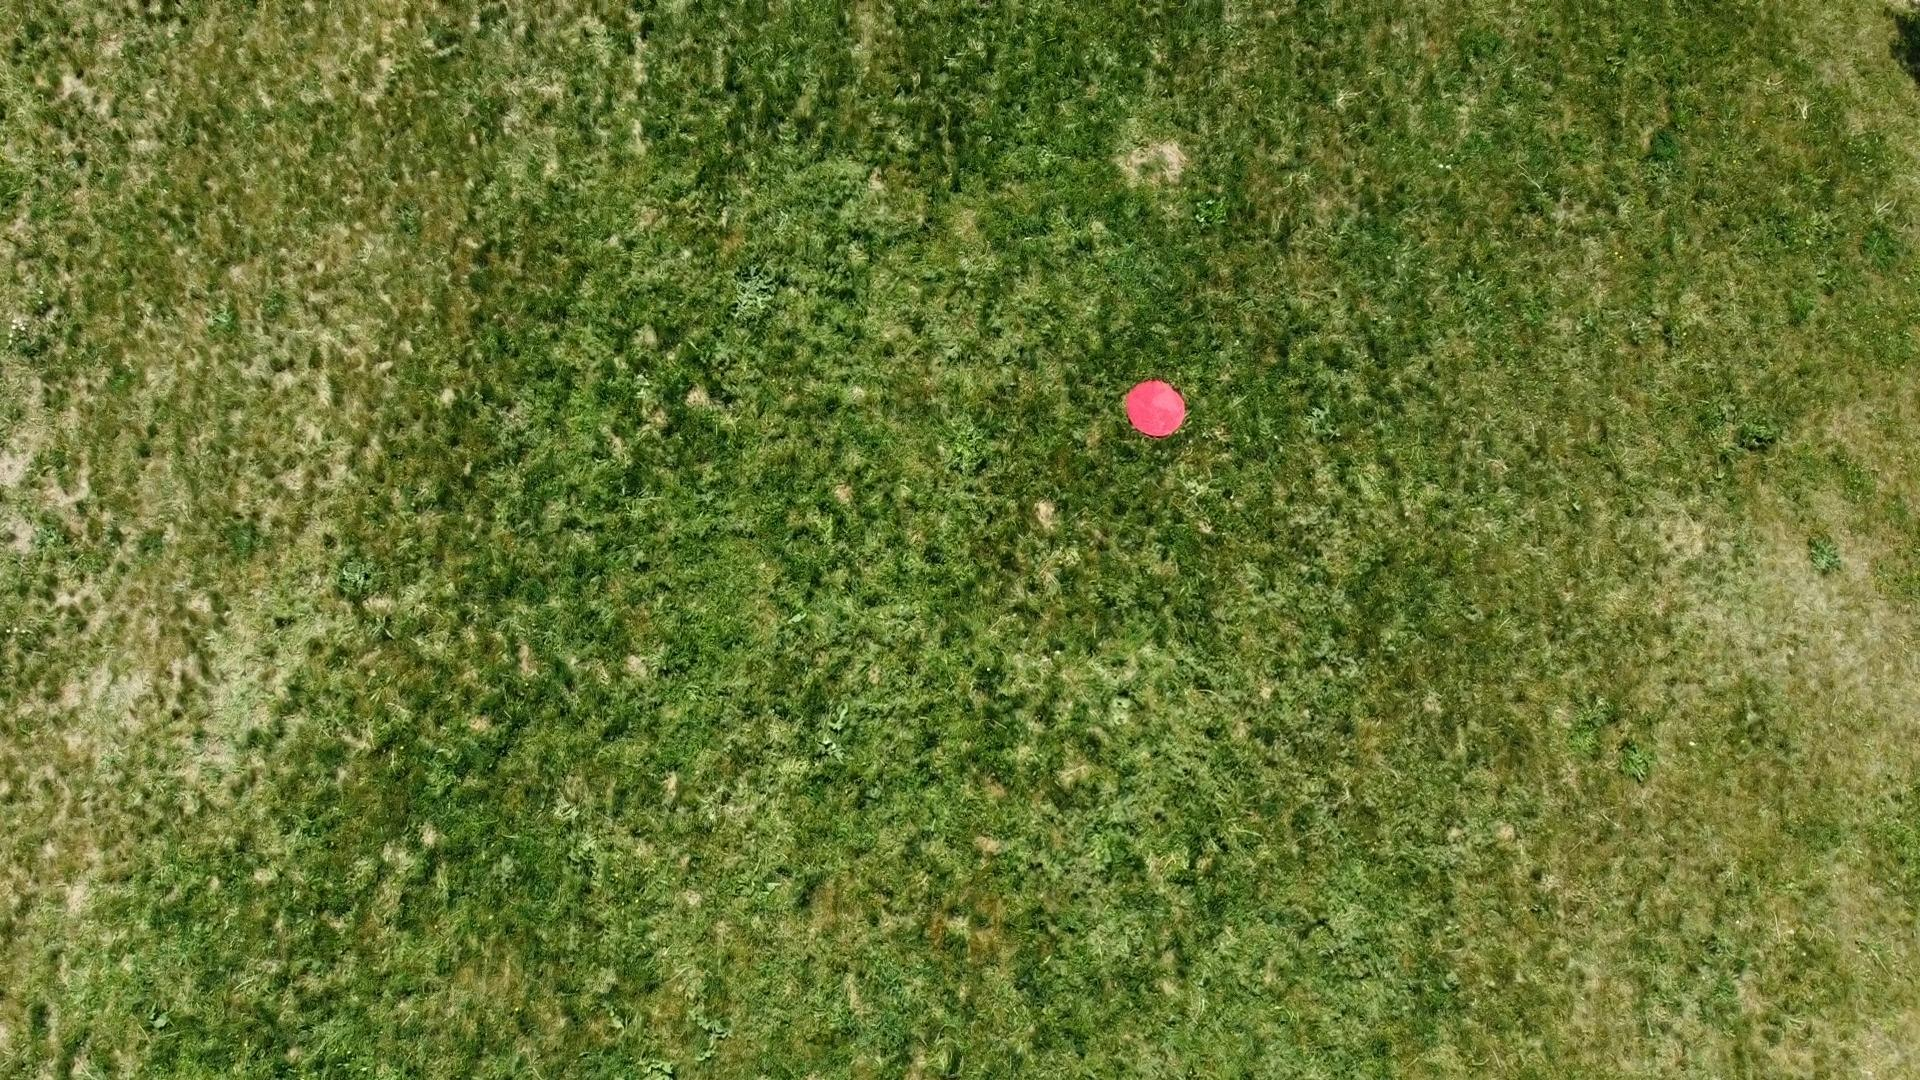Red: (1125, 378, 1188, 439)
